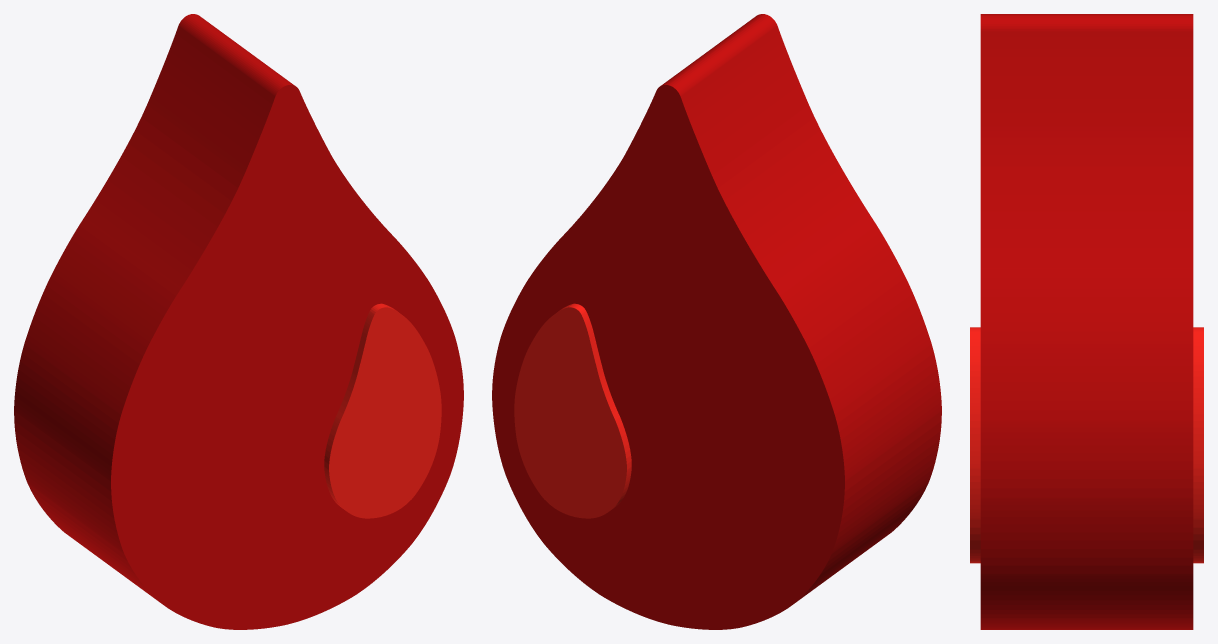
3 renders of one model, left to right at view 1: azimuth 30°, elevation 25°; view 2: azimuth 150°, elevation 25°; view 3: azimuth 270°, elevation 25°, orthographic. The views are drawn at different scales.
Parts seen in each view (by area): view 1: U+1FA78_layer00_obj00, U+1FA78_layer01_obj00; view 2: U+1FA78_layer00_obj00, U+1FA78_layer01_obj00; view 3: U+1FA78_layer00_obj00, U+1FA78_layer01_obj00.
Boxes of the visible parts, box(x1,y1,x2,y2) form: U+1FA78_layer00_obj00: box(14, 14, 463, 629); U+1FA78_layer01_obj00: box(324, 303, 441, 518); U+1FA78_layer00_obj00: box(492, 14, 941, 629); U+1FA78_layer01_obj00: box(514, 303, 631, 518); U+1FA78_layer00_obj00: box(980, 14, 1193, 629); U+1FA78_layer01_obj00: box(970, 327, 1203, 563).
Bounding box in the file's own units: 0.2103 × 0.307 × 0.11.
